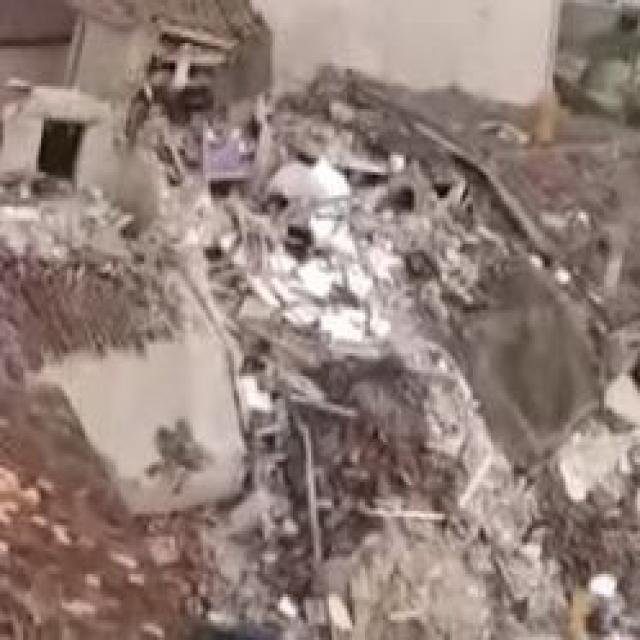collapsed_building: (10, 132, 638, 637)
